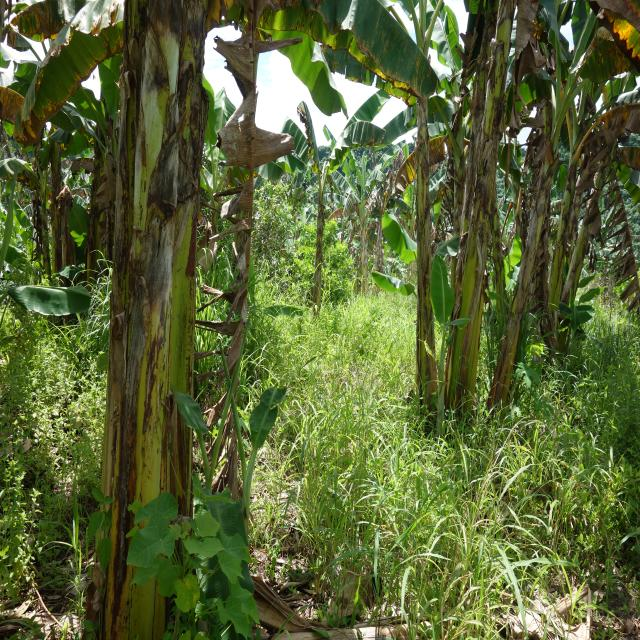Banana-plant: (95, 1, 202, 640), (439, 0, 516, 446), (493, 78, 574, 426), (543, 80, 593, 371), (404, 6, 436, 434), (314, 164, 325, 319)
